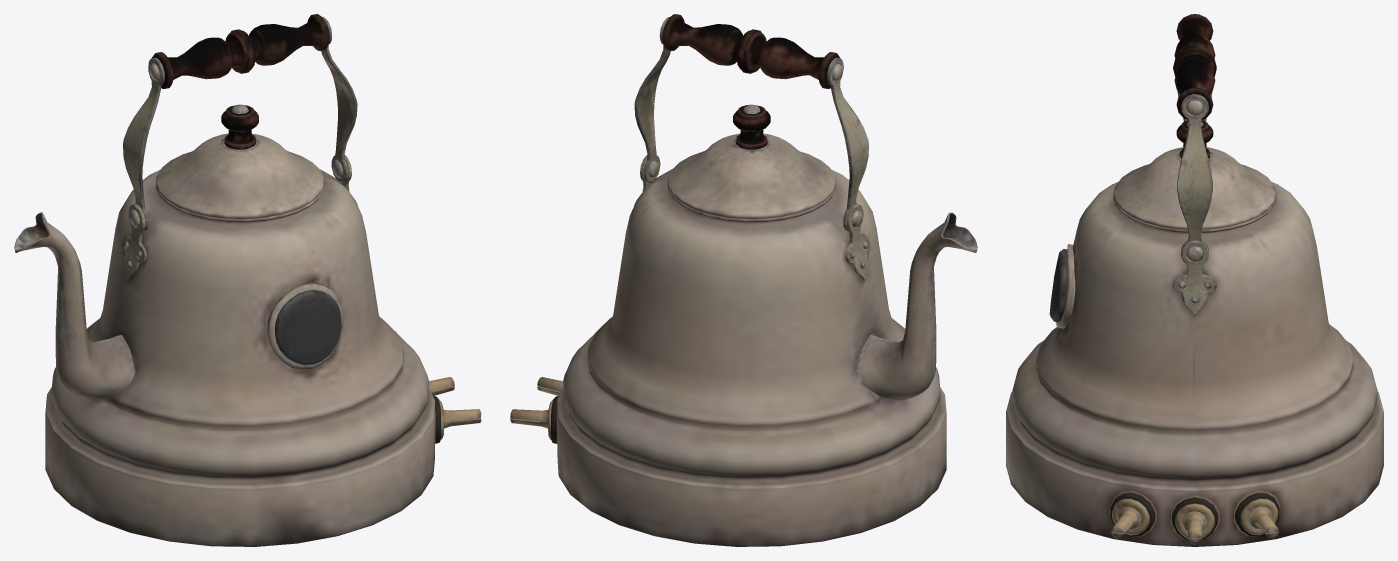
File: ph_vintage_electric_kettle.glb
3 views of the same model, side by side, from view 1: azimuth 30°, elevation 25°; view 2: azimuth 150°, elevation 25°; view 3: azimuth 270°, elevation 25° (orthographic). The views are drawn at different scales.
Parts seen in each view (by area): view 1: vintage_electric_kettle; view 2: vintage_electric_kettle; view 3: vintage_electric_kettle.
Part boxes in pixels (x1,y1,x2,y2): vintage_electric_kettle: (14, 14, 481, 546); vintage_electric_kettle: (510, 14, 977, 546); vintage_electric_kettle: (1006, 14, 1383, 546).
Bounding box in the file's own units: 0.3209 × 0.3047 × 0.2486.
2 materials, 2 textured.
